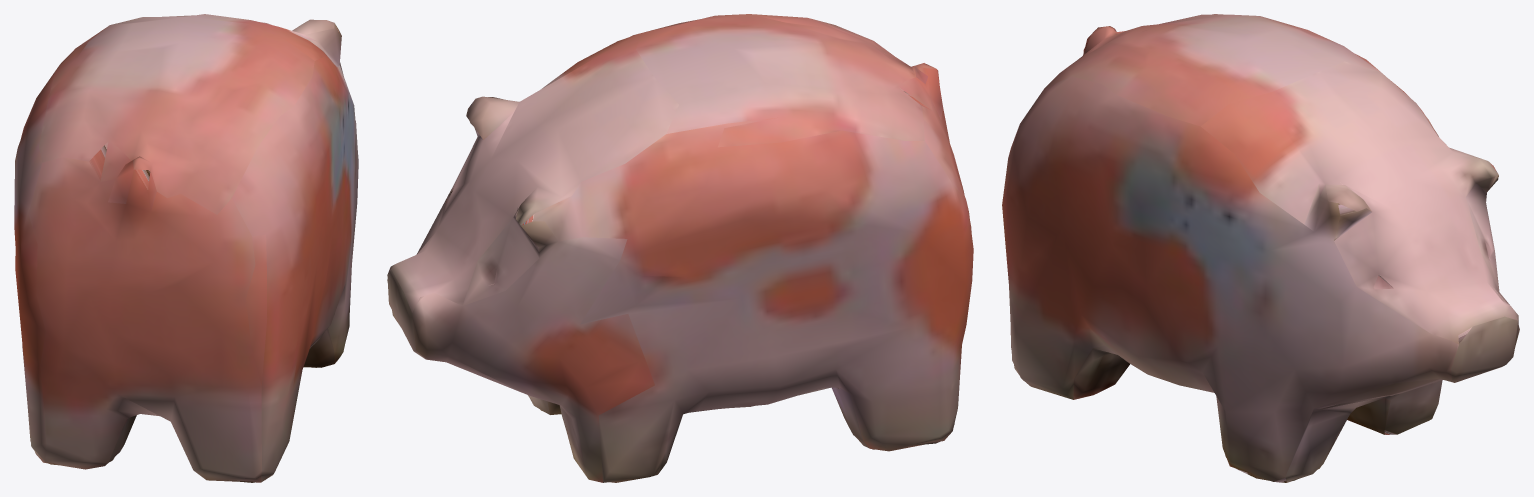
The model's file is piece-hog-lite.glb.
3 renders of one model, left to right at view 1: azimuth 30°, elevation 25°; view 2: azimuth 150°, elevation 25°; view 3: azimuth 270°, elevation 25°, orthographic. The views are drawn at different scales.
Visible parts, largest first — view 1: geometry_0; view 2: geometry_0; view 3: geometry_0.
Boxes of the visible parts, <box> form: geometry_0: <box>14,14,358,482</box>; geometry_0: <box>387,14,973,482</box>; geometry_0: <box>1002,14,1519,482</box>.
Bounding box in the file's own units: 0.8579 × 0.7018 × 0.9234.
Materials: 1 (1 with a texture image).
